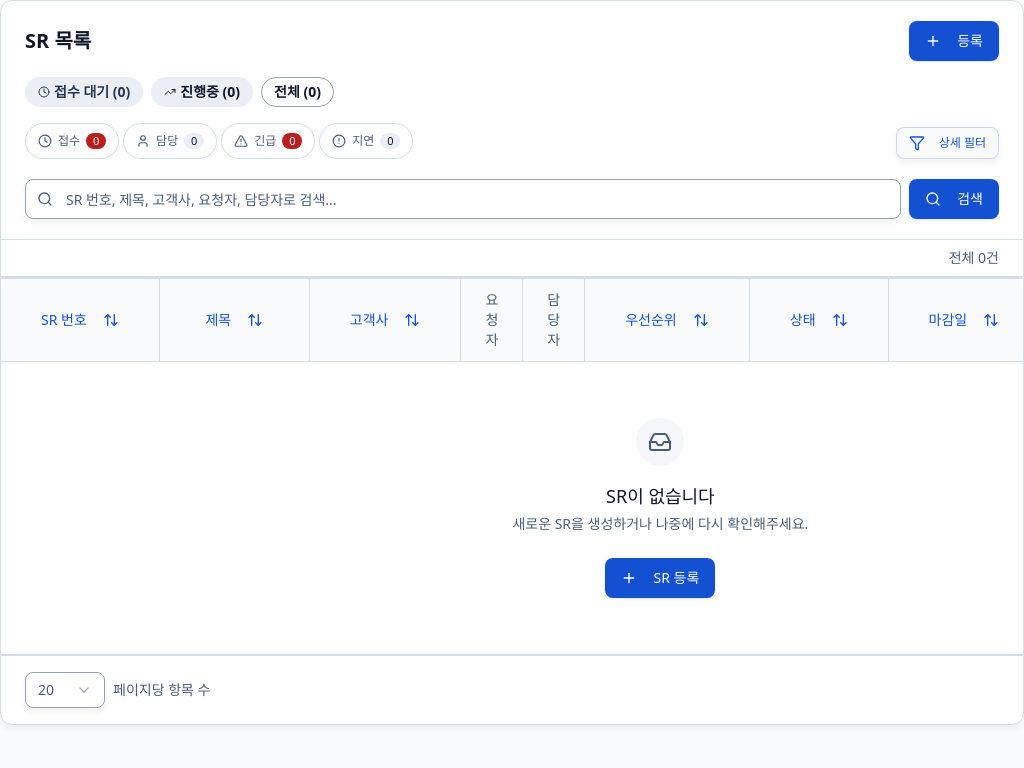
Test: SRsDataTable Search Component › shows clear button when text is typed
// Type something
Type "test" into the field with placeholder "SR 번호, 제목, 고객사, 요청자, 담당자로 검색..." at (463, 199), box [25, 179, 901, 219]
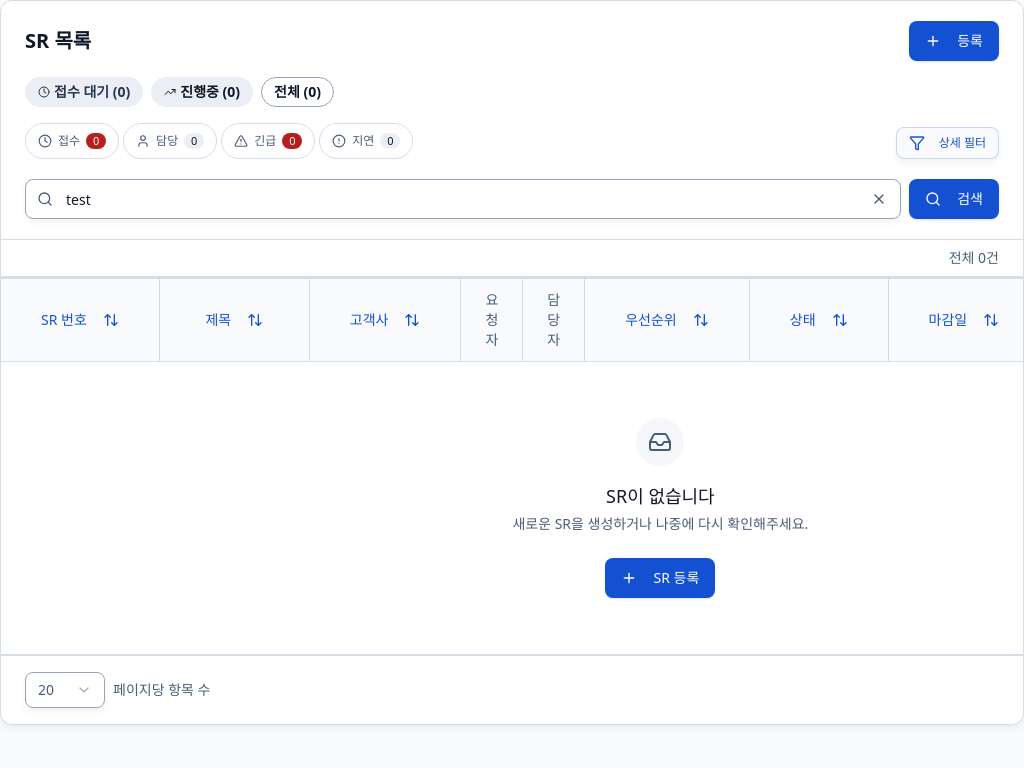
Result: the button named "검색어 초기화" is shown at [869, 189, 889, 209]
